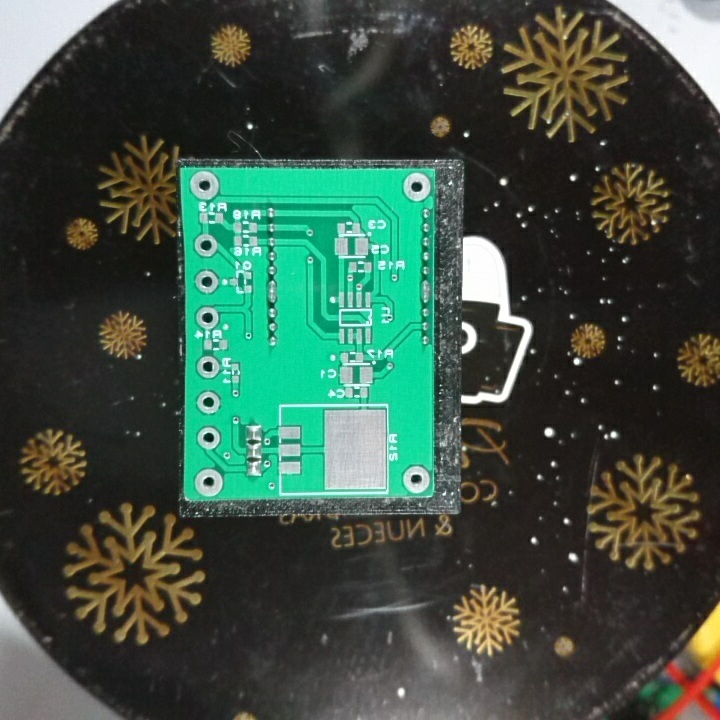F: (188, 169, 223, 202), (399, 463, 433, 496), (190, 465, 225, 496), (402, 172, 433, 206), (193, 304, 222, 332), (192, 267, 219, 295), (195, 423, 221, 451), (194, 355, 222, 380), (196, 389, 222, 415), (192, 233, 220, 257)
P: (264, 280, 281, 305), (418, 278, 433, 303)
